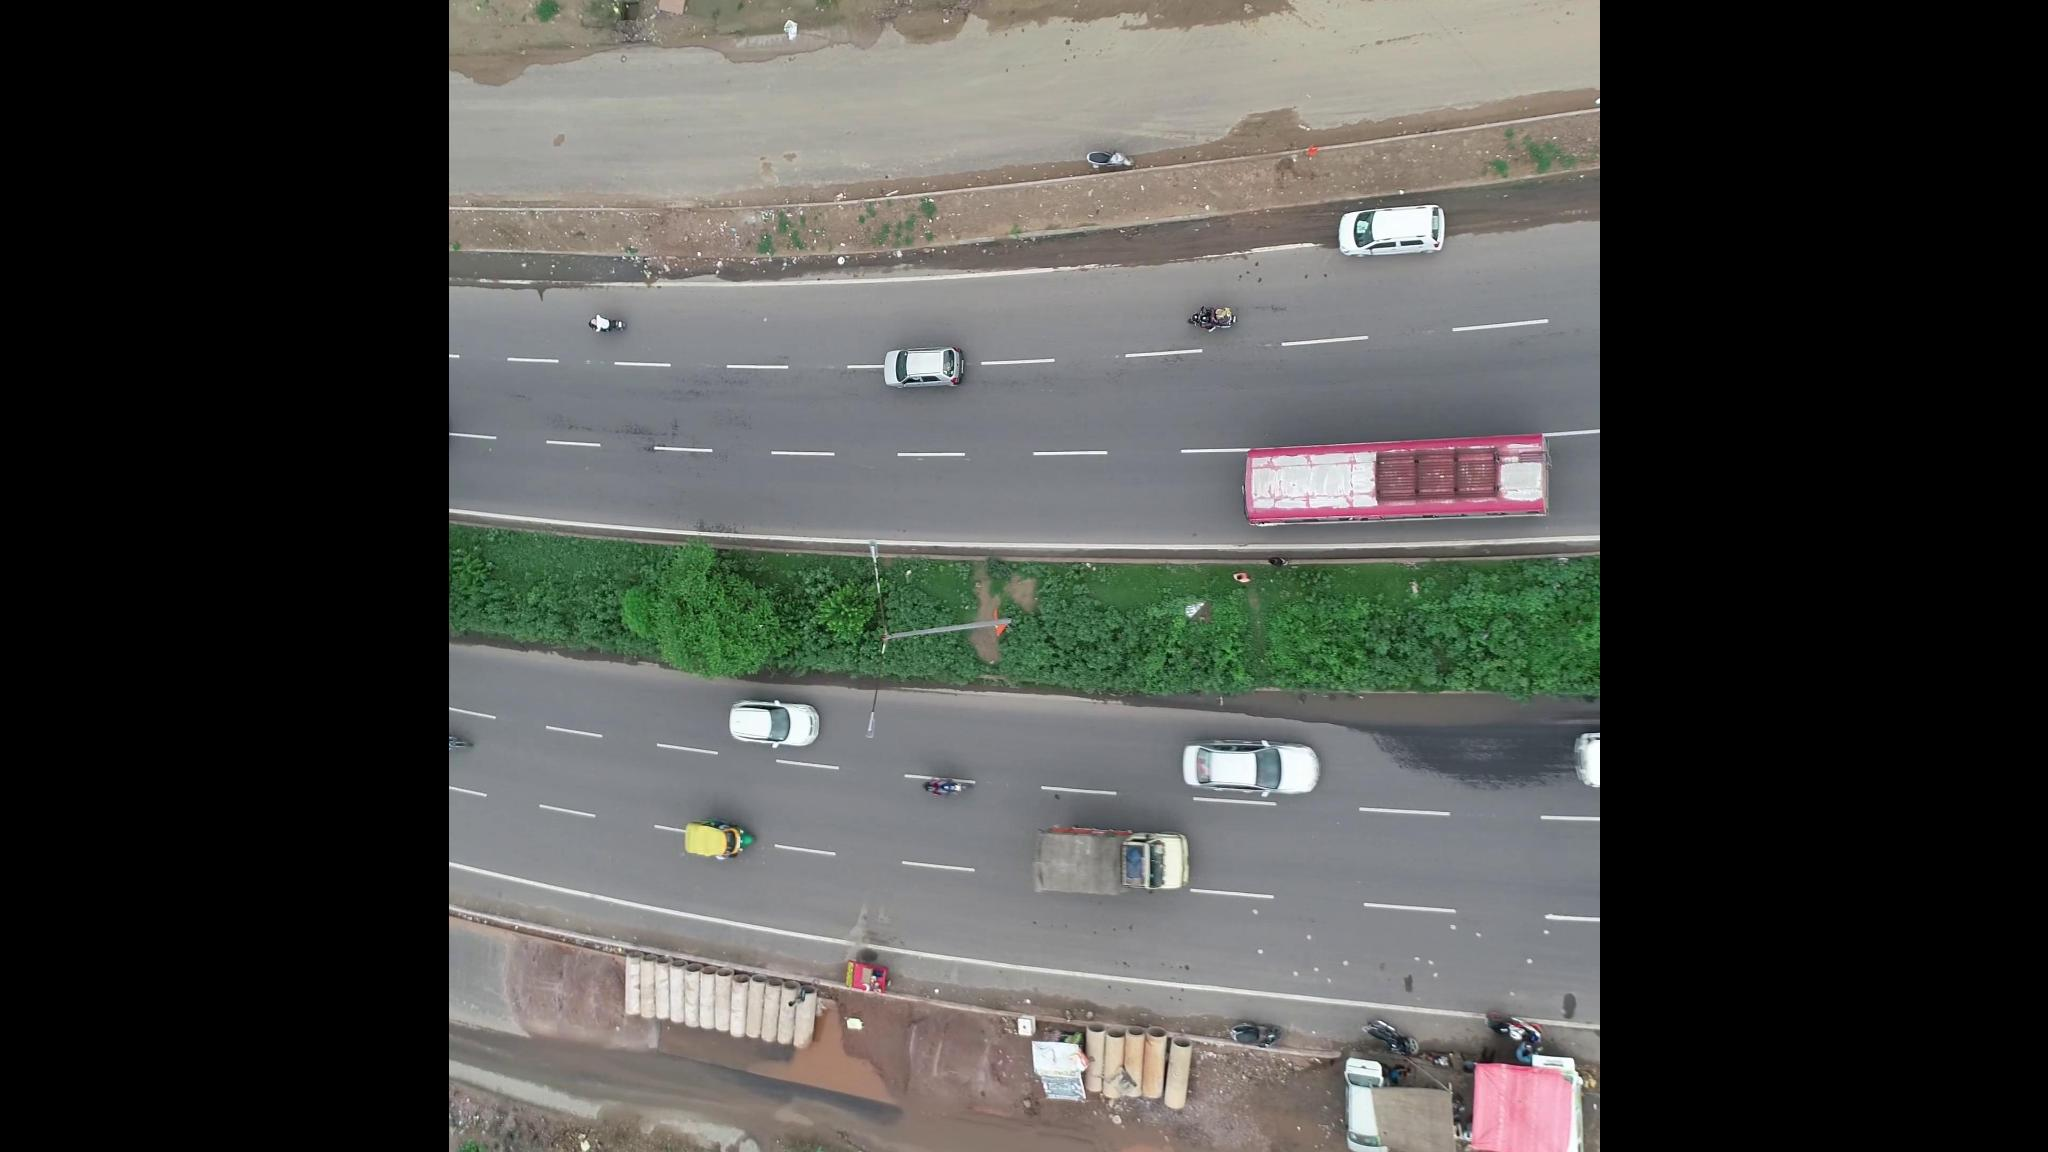Waterlogging: (776, 1034, 907, 1113)
